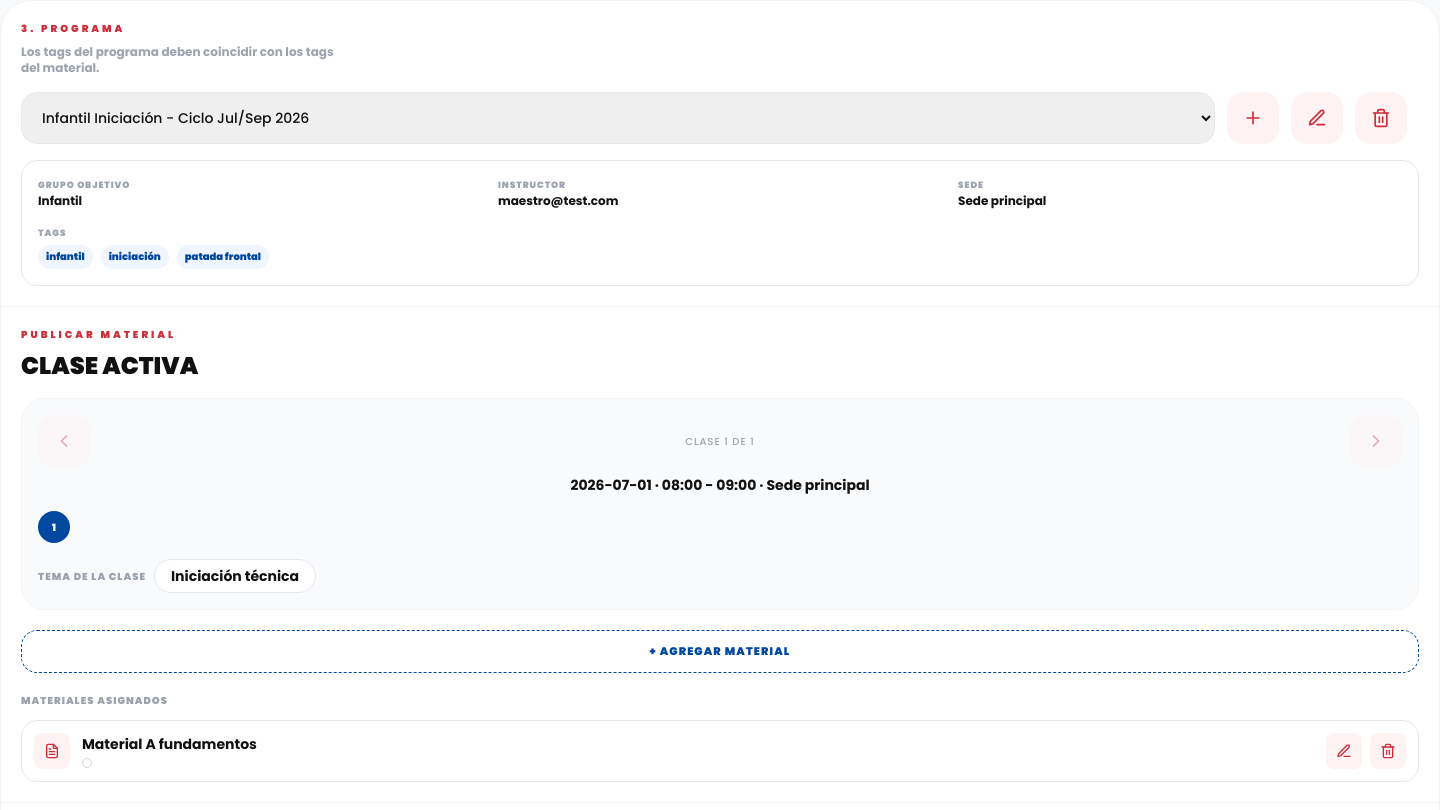
Test: material opcional: asignar una clase sin recurso real (confirmarWizard) › editar con un recursoId que ya no existe en recursosDisponibles sigue lanzando el error de material invalido
The image size is (1440, 810).
Expected: the text "Material A fundamentos" is shown, [82, 734, 257, 754]
Step 1. Click the button named "Editar Material A fundamentos" → (1344, 750), box [1326, 732, 1362, 768]
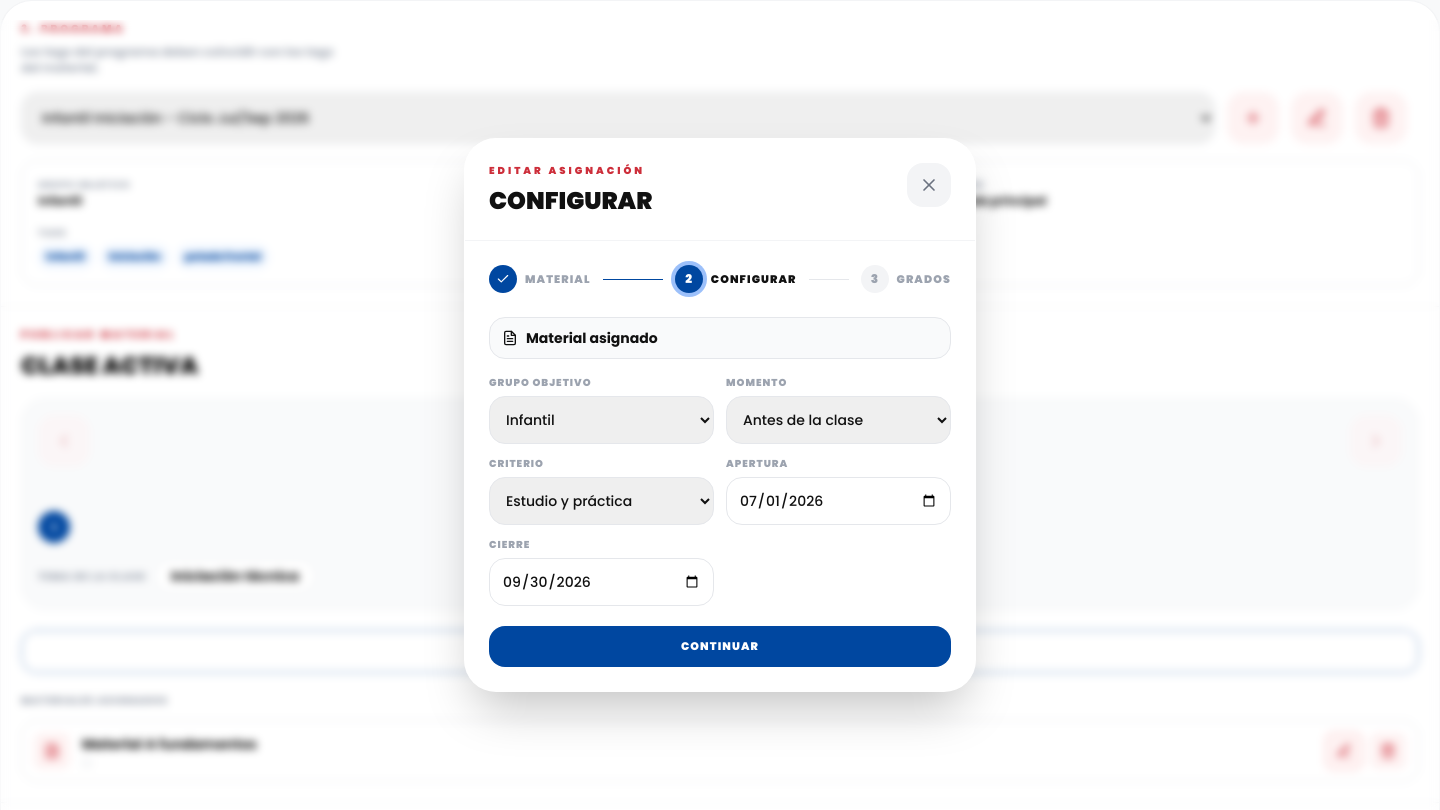
Step 2. Click the button "Continuar" → (720, 647), box [489, 626, 951, 667]
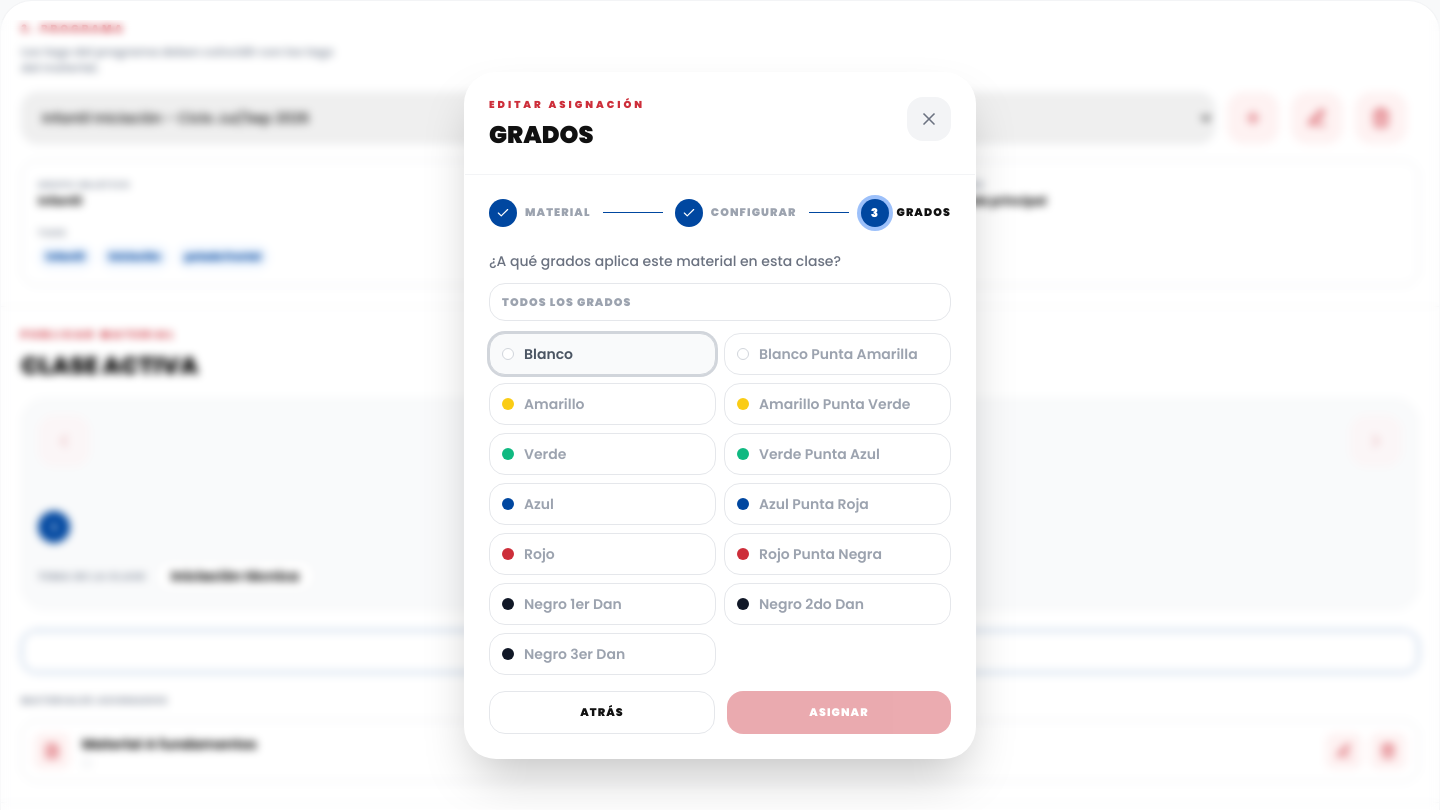
Step 3. Click the button "Amarillo" → (602, 404), box [489, 383, 716, 425]
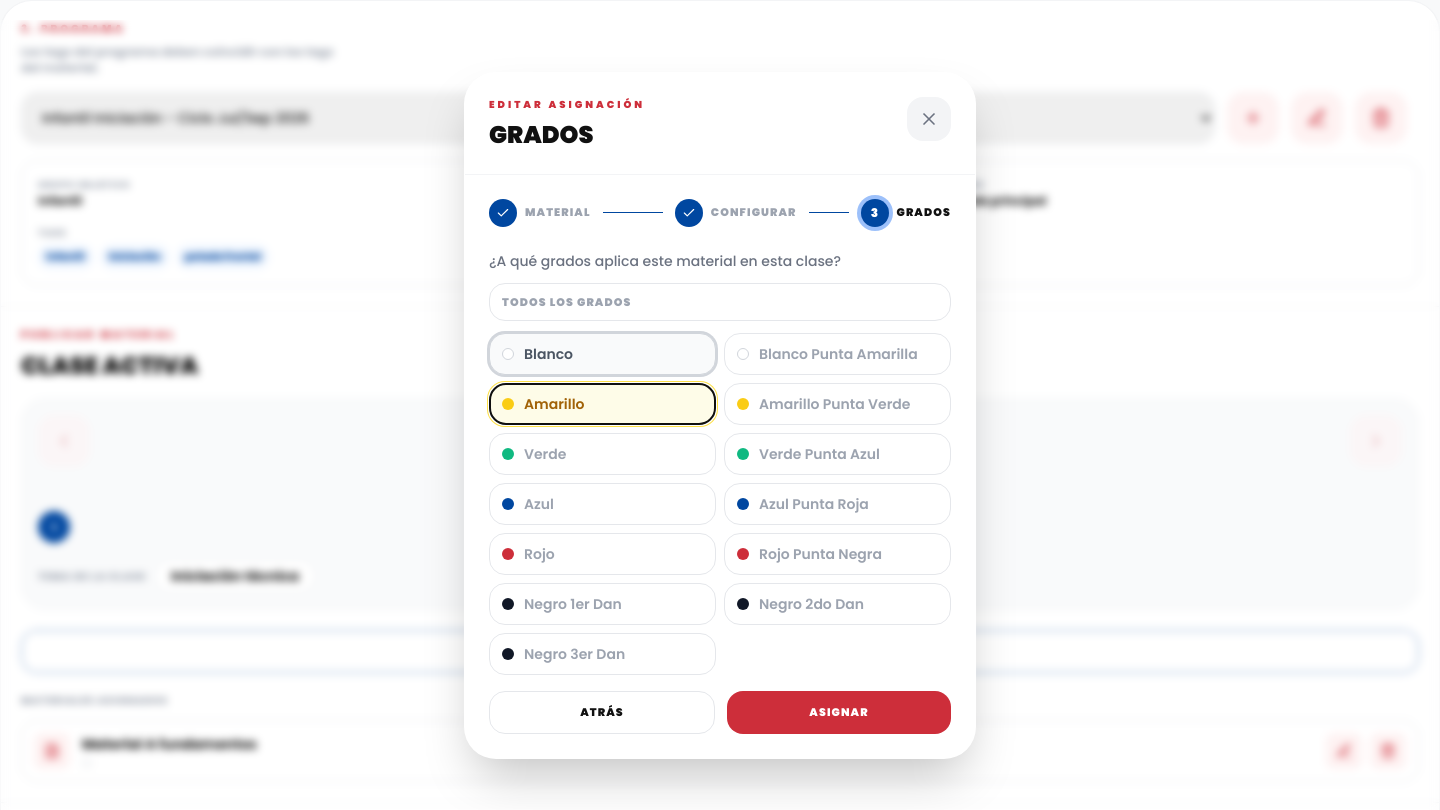
Step 4. Click the button "Asignar" → (839, 712), box [727, 691, 951, 734]
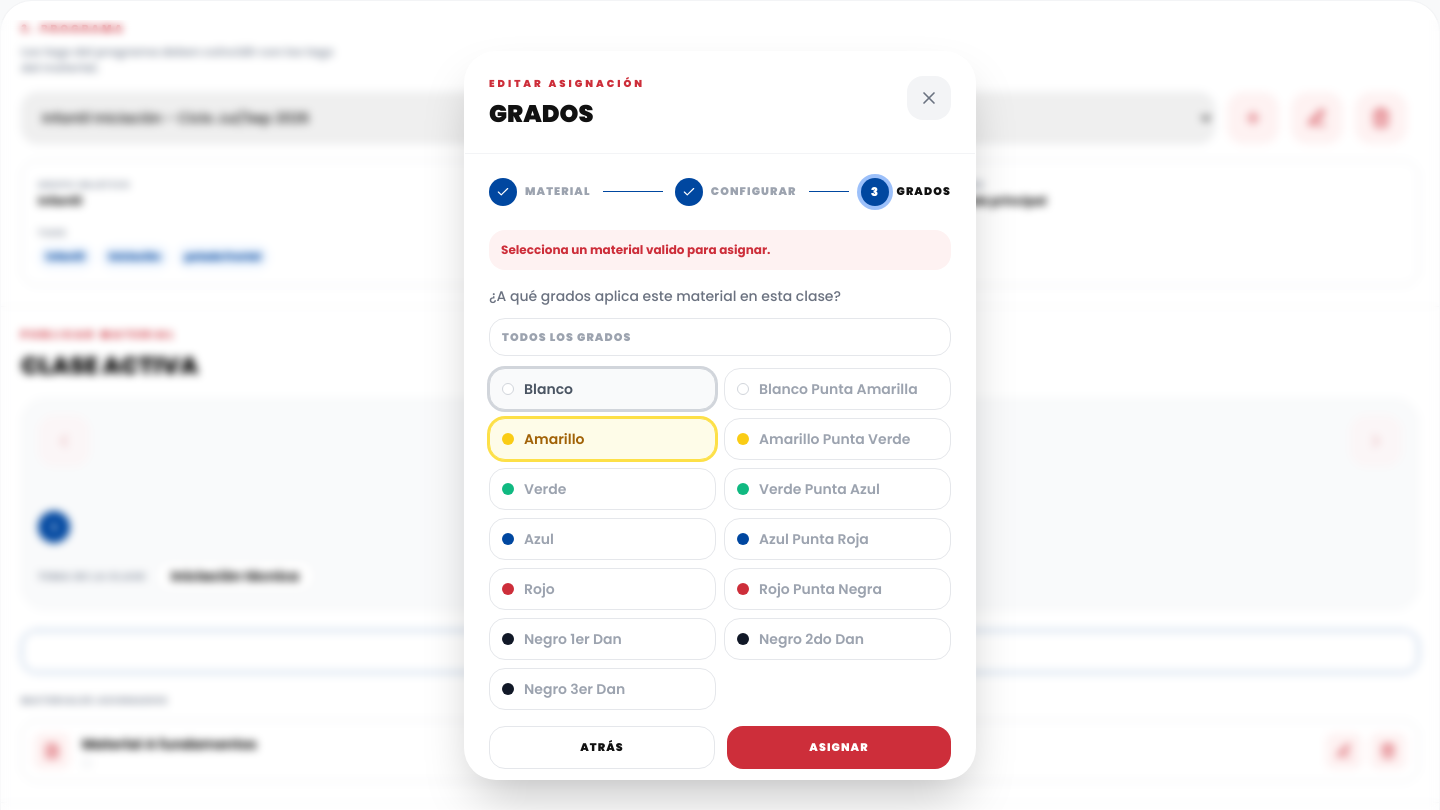
Expected: the text "Selecciona un material valido para asignar." is shown, [489, 230, 951, 270]
